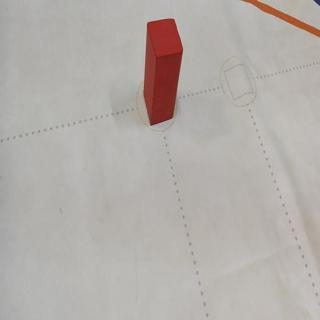redbox: (143, 16, 184, 126)
